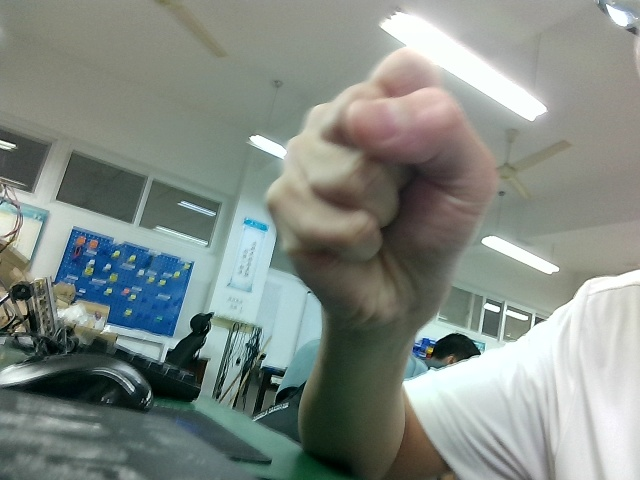stone: (262, 42, 513, 363)
